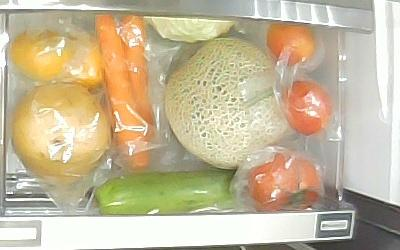cabbage: (147, 16, 236, 42)
carrot_vinyl: (94, 14, 151, 170), (120, 14, 155, 138)
melon: (164, 38, 292, 171)
pear_vinyl: (12, 82, 111, 184)
prune_vinyl: (282, 80, 332, 136), (266, 22, 317, 67)
tangerine_vinyl: (11, 29, 76, 80), (70, 34, 104, 89)
tomato_vinyl: (246, 150, 322, 212)
zucchini_vinyl: (94, 171, 240, 215)
